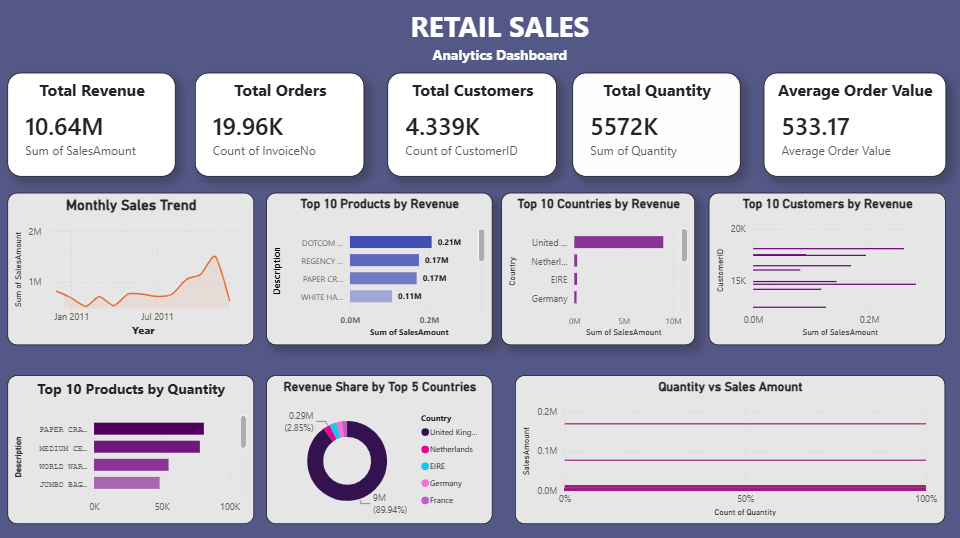

This screenshot's page, from the dashboard's own definition file:
{"tool":"powerbi","page":{"name":"Dashboard","canvas":[1280,720],"ordinal":0},"visuals":[{"type":"textbox","box":[535.7,0,262.9,121.4],"z":0},{"type":"cardVisual","title":"Total Revenue","fields":{"Data":["Sum(retail_analytics retail_sales.SalesAmount)"]},"box":[10,98.6,224.3,138.6],"z":1000},{"type":"cardVisual","title":"Total Orders","fields":{"Data":["Count(retail_analytics retail_sales.InvoiceNo)"]},"box":[260,98.6,225.7,138.6],"z":2000},{"type":"cardVisual","title":"Total Customers","fields":{"Data":["Count(retail_analytics retail_sales.CustomerID)"]},"box":[517.1,98.6,225.7,138.6],"z":3000},{"type":"cardVisual","title":"Total Quantity","fields":{"Data":["Sum(retail_analytics retail_sales.Quantity)"]},"box":[762.9,98.6,224.3,138.6],"z":4000},{"type":"cardVisual","title":"Average Order Value","fields":{"Data":["retail_analytics retail_sales.Average Order Value"]},"box":[1018.6,98.6,242.9,138.6],"z":5000},{"type":"lineChart","title":"Monthly Sales Trend","fields":{"Y":["Sum(retail_analytics retail_sales.SalesAmount)"],"Category":["retail_analytics retail_sales.Invoice_Date.Variation.Date Hierarchy.Year","retail_analytics retail_sales.Invoice_Date.Variation.Date Hierarchy.Month"]},"box":[10,258.6,328.6,202.9],"z":6000},{"type":"clusteredBarChart","title":"Top 10 Products by Revenue","fields":{"Category":["retail_analytics retail_sales.Description"],"Y":["Sum(retail_analytics retail_sales.SalesAmount)"]},"box":[354.3,258.6,301.4,202.9],"z":7000},{"type":"clusteredBarChart","title":"Top 10 Countries by Revenue","fields":{"Category":["retail_analytics retail_sales.Country"],"Y":["Sum(retail_analytics retail_sales.SalesAmount)"]},"box":[668.6,258.6,258.6,202.9],"z":8000},{"type":"clusteredBarChart","title":"Top 10 Customers by Revenue","fields":{"Category":["retail_analytics retail_sales.CustomerID"],"Y":["Sum(retail_analytics retail_sales.SalesAmount)"]},"box":[945.7,258.6,315.7,202.9],"z":9000},{"type":"clusteredBarChart","title":"Top 10 Products by Quantity","fields":{"Category":["retail_analytics retail_sales.Description"],"Y":["Sum(retail_analytics retail_sales.Quantity)"]},"box":[10,501.4,328.6,198.6],"z":10000},{"type":"donutChart","title":"Revenue Share by Top 5 Countries","fields":{"Category":["retail_analytics retail_sales.Country"],"Y":["Sum(retail_analytics retail_sales.SalesAmount)"]},"box":[354.3,501.4,301.4,198.6],"z":11000},{"type":"hundredPercentStackedBarChart","title":"Quantity vs Sales Amount","fields":{"Y":["Count(retail_analytics retail_sales.Quantity)"],"Category":["retail_analytics retail_sales.SalesAmount"]},"box":[686.7,501.7,573.3,198.3],"z":12000}]}

Visuals, with their boxes in screenshot pixels (x1, y1, x2, y2), scaled from the page's 1280x720 canvas onto the 960x538 screenshot:
textbox: bbox=(402, 0, 599, 91)
"Total Revenue" cardVisual: bbox=(8, 74, 176, 177)
"Total Orders" cardVisual: bbox=(195, 74, 364, 177)
"Total Customers" cardVisual: bbox=(388, 74, 557, 177)
"Total Quantity" cardVisual: bbox=(572, 74, 740, 177)
"Average Order Value" cardVisual: bbox=(764, 74, 946, 177)
"Monthly Sales Trend" lineChart: bbox=(8, 193, 254, 345)
"Top 10 Products by Revenue" clusteredBarChart: bbox=(266, 193, 492, 345)
"Top 10 Countries by Revenue" clusteredBarChart: bbox=(501, 193, 695, 345)
"Top 10 Customers by Revenue" clusteredBarChart: bbox=(709, 193, 946, 345)
"Top 10 Products by Quantity" clusteredBarChart: bbox=(8, 375, 254, 523)
"Revenue Share by Top 5 Countries" donutChart: bbox=(266, 375, 492, 523)
"Quantity vs Sales Amount" hundredPercentStackedBarChart: bbox=(515, 375, 945, 523)
